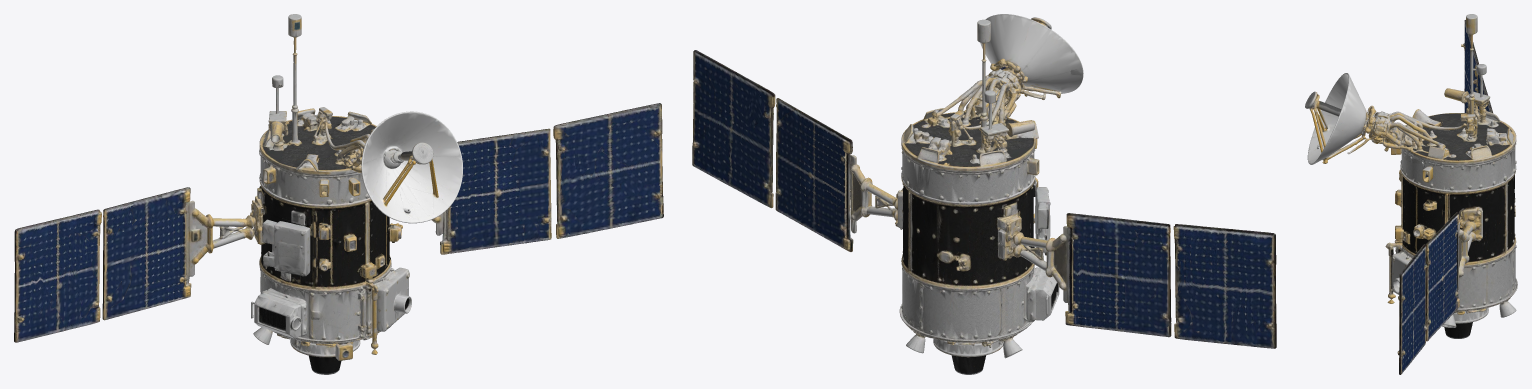
The model's file is contact-satellite.glb.
The picture shows the model from 3 angles, left to right: view 1: azimuth 30°, elevation 25°; view 2: azimuth 150°, elevation 25°; view 3: azimuth 270°, elevation 25°; orthographic projection. The views are drawn at different scales.
Bounding box in the file's own units: 1.9 × 1.05 × 0.6542.
Materials: 1 (1 with a texture image).
